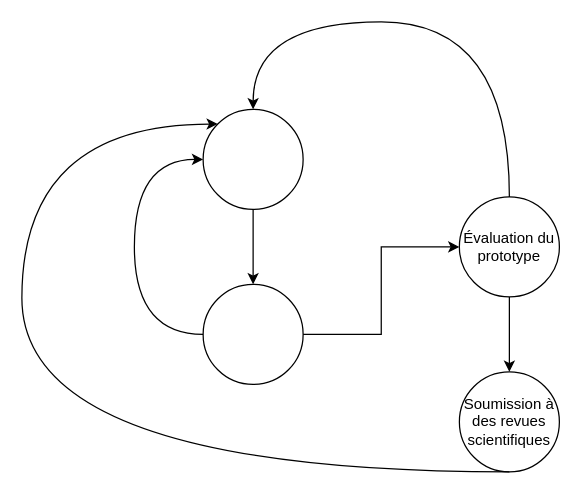
Some shapes in this 581 by 495 pixel diagram are drawn without their labels. The centre of each missing label's shape, as x and y in pixels:
Peaufinage des modèles: the point at 252,158
Prototypage: the point at 252,333
